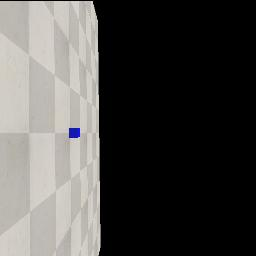box: (69, 128, 80, 138)
